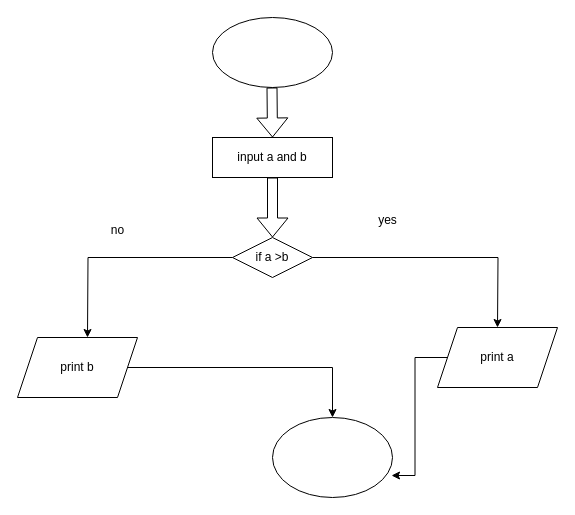
Image size: 575x515. Some labels were removed from this diagram. Here are the shapes that lost their labels. From the top down, the centre of each, then its label:
(x=272, y=52): start
(x=332, y=457): stop
